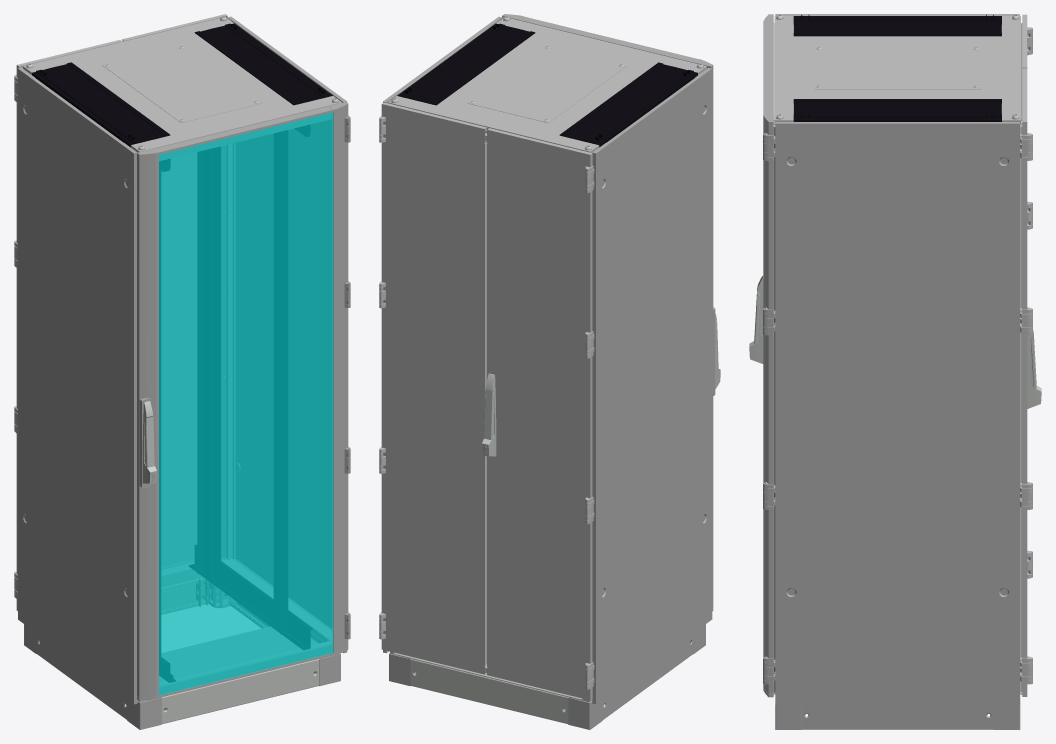
The picture shows the model from 3 angles, left to right: view 1: azimuth 30°, elevation 25°; view 2: azimuth 150°, elevation 25°; view 3: azimuth 270°, elevation 25°; orthographic projection. The views are drawn at different scales.
Visible parts, largest first — view 1: 5507_00_36 (2) (×2), 880X_00_37, 880X_00_35 (2), 58X8_00_26(2,RAL 7035), 580X_00_17(2,RAL 7035), 5X0X_00_25(2,RAL 9005), 5X0X_00_24(2,RAL 9005) (×2), 8640.003_p1 (×2), 8X0X_00_12 (2,RAL 7035), 58XX_00_18(2) (×2), 58XX_00_19(2) (×2), 88X8_00_04 (2) (+5 smaller); view 2: 5507_00_36 (2) (×2), 580X_00_17(2,RAL 7035), 580X_00_16(2,RAL 7035), 58X8_00_26(2,RAL 7035), 58XX_00_18(2) (×2), 8640.003_p1, 58XX_00_19(2) (×2), 880X_00_35 (2), 8640.034_P1, 8601.XXXM51_P3 (×2), 88X8_00_11_SO (2,RAL 7035); view 3: 5507_00_36 (2) (×2), 58X8_00_26(2,RAL 7035), 880X_00_35 (2), 58XX_00_18(2) (×2), 8640.034_P1, 58XX_00_19(2) (×2), 580X_00_17(2,RAL 7035), 8X0X_00_12 (2,RAL 7035) (×2), 8601.XXXM51_P3 (×2), 580X_00_16(2,RAL 7035).
Boxes of the visible parts, x1,y1,x2,y2 form: 5507_00_36 (2) (×2): [18, 16, 347, 704]; 880X_00_37: [159, 112, 333, 695]; 880X_00_35 (2): [137, 102, 350, 700]; 58X8_00_26(2,RAL 7035): [23, 16, 341, 152]; 580X_00_17(2,RAL 7035): [122, 14, 227, 569]; 5X0X_00_25(2,RAL 9005): [197, 146, 220, 584]; 5X0X_00_24(2,RAL 9005) (×2): [159, 130, 287, 655]; 8640.003_p1 (×2): [160, 578, 319, 723]; 8X0X_00_12 (2,RAL 7035): [221, 144, 232, 559]; 58XX_00_18(2) (×2): [32, 23, 332, 147]; 58XX_00_19(2) (×2): [54, 28, 311, 139]; 88X8_00_04 (2): [159, 627, 315, 681]; 5507_00_36 (2) (×2): [383, 16, 712, 704]; 580X_00_17(2,RAL 7035): [379, 102, 487, 674]; 580X_00_16(2,RAL 7035): [487, 128, 593, 700]; 58X8_00_26(2,RAL 7035): [388, 16, 706, 152]; 58XX_00_18(2) (×2): [397, 23, 697, 147]; 8640.003_p1: [410, 658, 569, 723]; 58XX_00_19(2) (×2): [419, 28, 675, 139]; 880X_00_35 (2): [502, 14, 715, 611]; 8640.034_P1: [602, 633, 693, 719]; 8601.XXXM51_P3 (×2): [389, 653, 602, 729]; 88X8_00_11_SO (2,RAL 7035): [390, 651, 592, 702]; 5507_00_36 (2) (×2): [775, 14, 1019, 704]; 58X8_00_26(2,RAL 7035): [774, 14, 1020, 123]; 880X_00_35 (2): [763, 14, 773, 697]; 58XX_00_18(2) (×2): [793, 16, 1001, 121]; 8640.034_P1: [802, 704, 993, 729]; 58XX_00_19(2) (×2): [793, 26, 1001, 108]; 580X_00_17(2,RAL 7035): [1022, 68, 1032, 696]; 8X0X_00_12 (2,RAL 7035) (×2): [773, 124, 1022, 692]; 8601.XXXM51_P3 (×2): [775, 694, 1020, 729]; 580X_00_16(2,RAL 7035): [1022, 14, 1032, 578].
Bounding box in the file's own units: 0.8092 × 2.11 × 0.9114.
